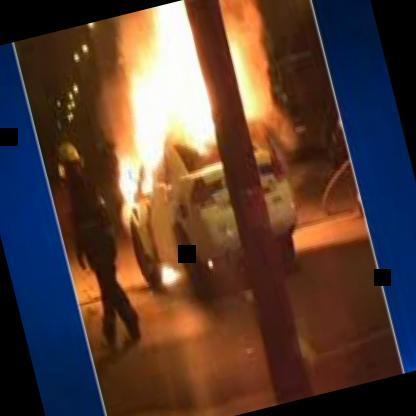fire: (92, 7, 255, 302)
